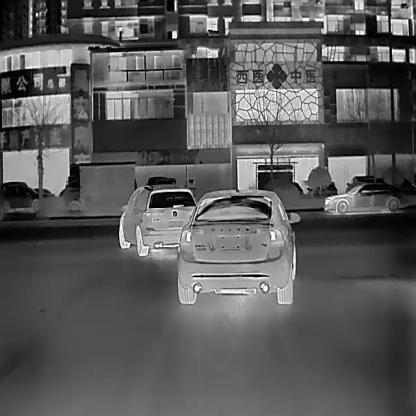car: (177, 188, 300, 302), (118, 184, 194, 254), (324, 181, 409, 212), (0, 180, 47, 212)
